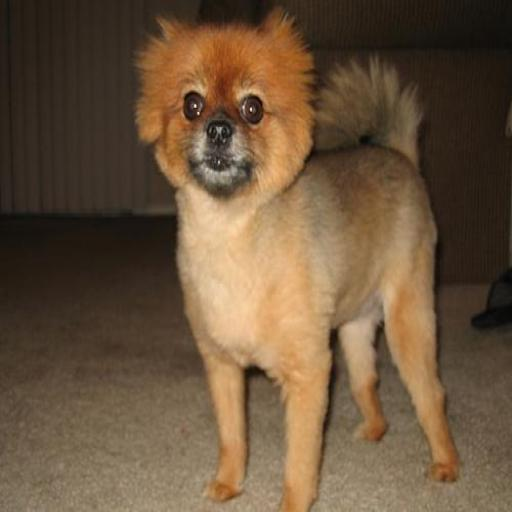dog_face: (140, 18, 291, 196)
